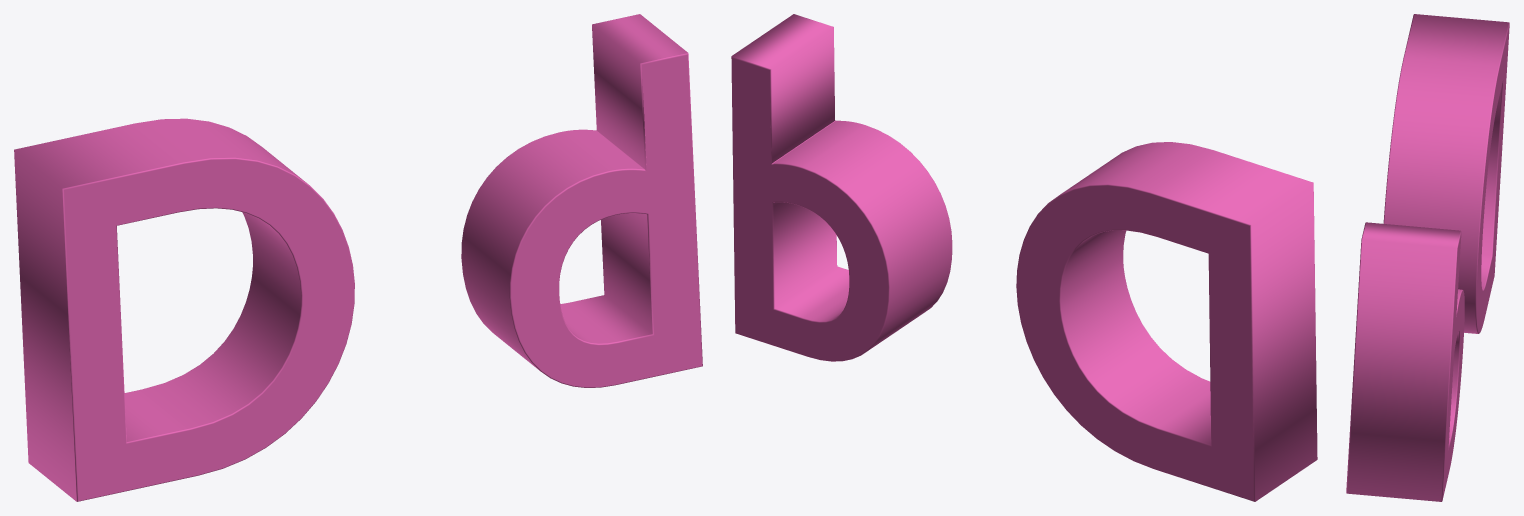
Rendered from ObjectD.fbx.
The picture shows the model from 3 angles, left to right: view 1: azimuth 30°, elevation 25°; view 2: azimuth 150°, elevation 25°; view 3: azimuth 270°, elevation 25°; orthographic projection. The views are drawn at different scales.
Parts seen in each view (by area): view 1: Text; view 2: Text; view 3: Text.
Boxes of the visible parts, <box> form: Text: <box>14,14,702,501</box>; Text: <box>731,14,1317,501</box>; Text: <box>1346,14,1509,501</box>.
Bounding box in the file's own units: 364 × 187 × 104.
